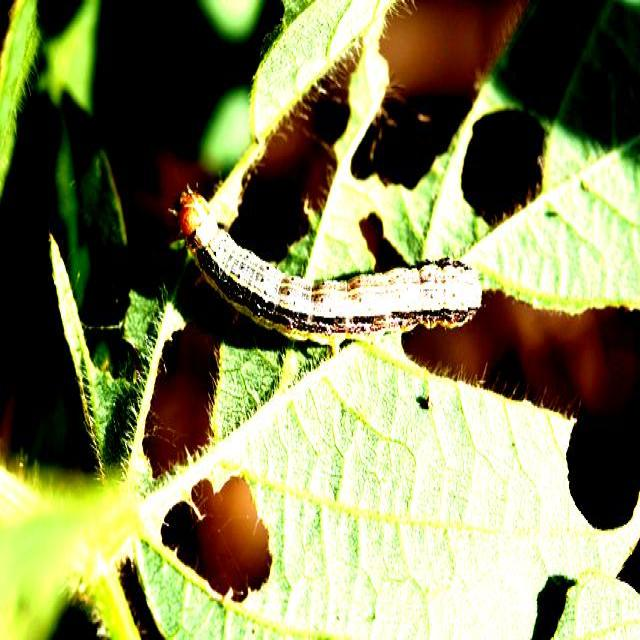armyworm: (168, 181, 483, 342)
